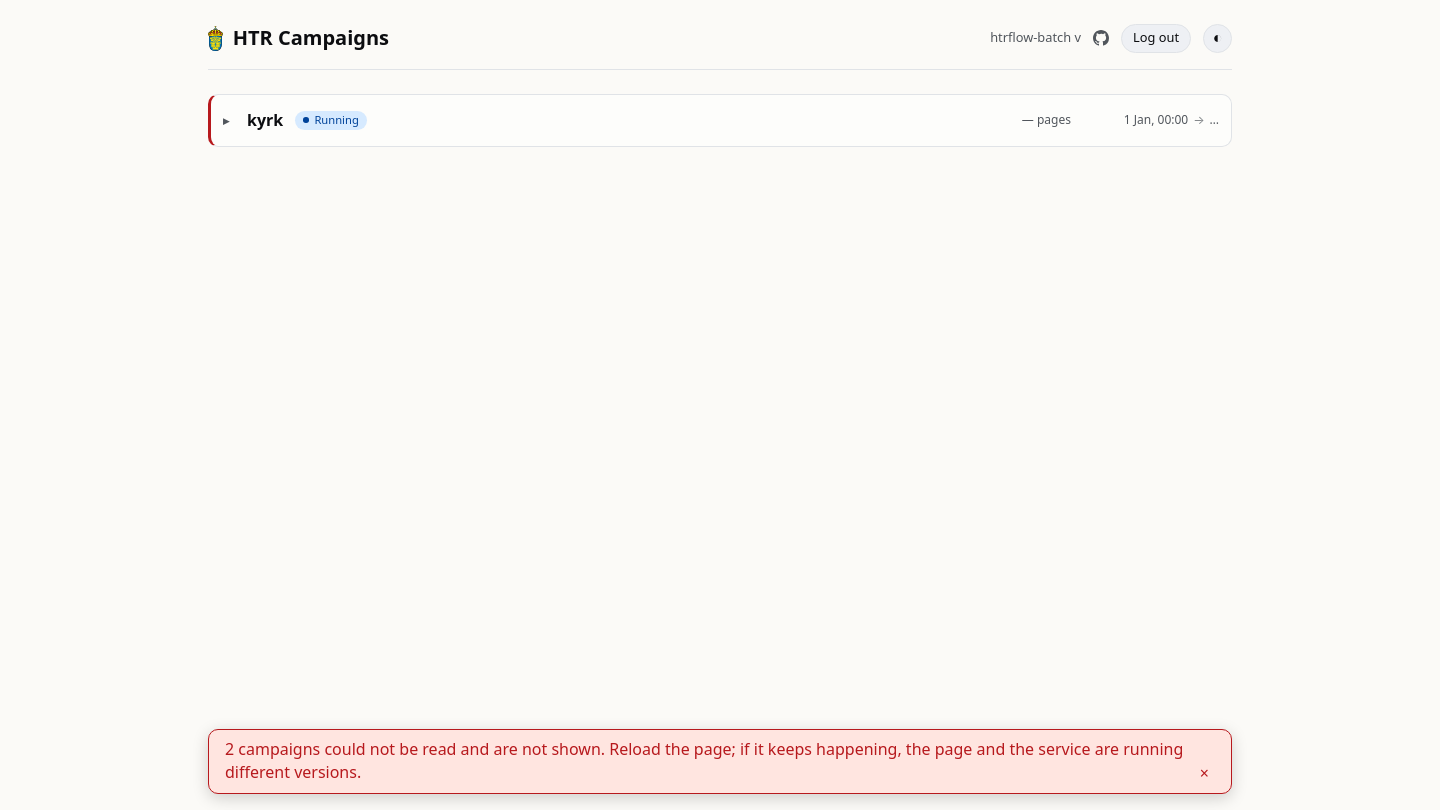
Test: / nothing moves as the page loads › the unreadable-rows banner can be put away until the count changes
Click the button named "put away": (1204, 773) [1194,761,1215,785]
Wait 120000 ms
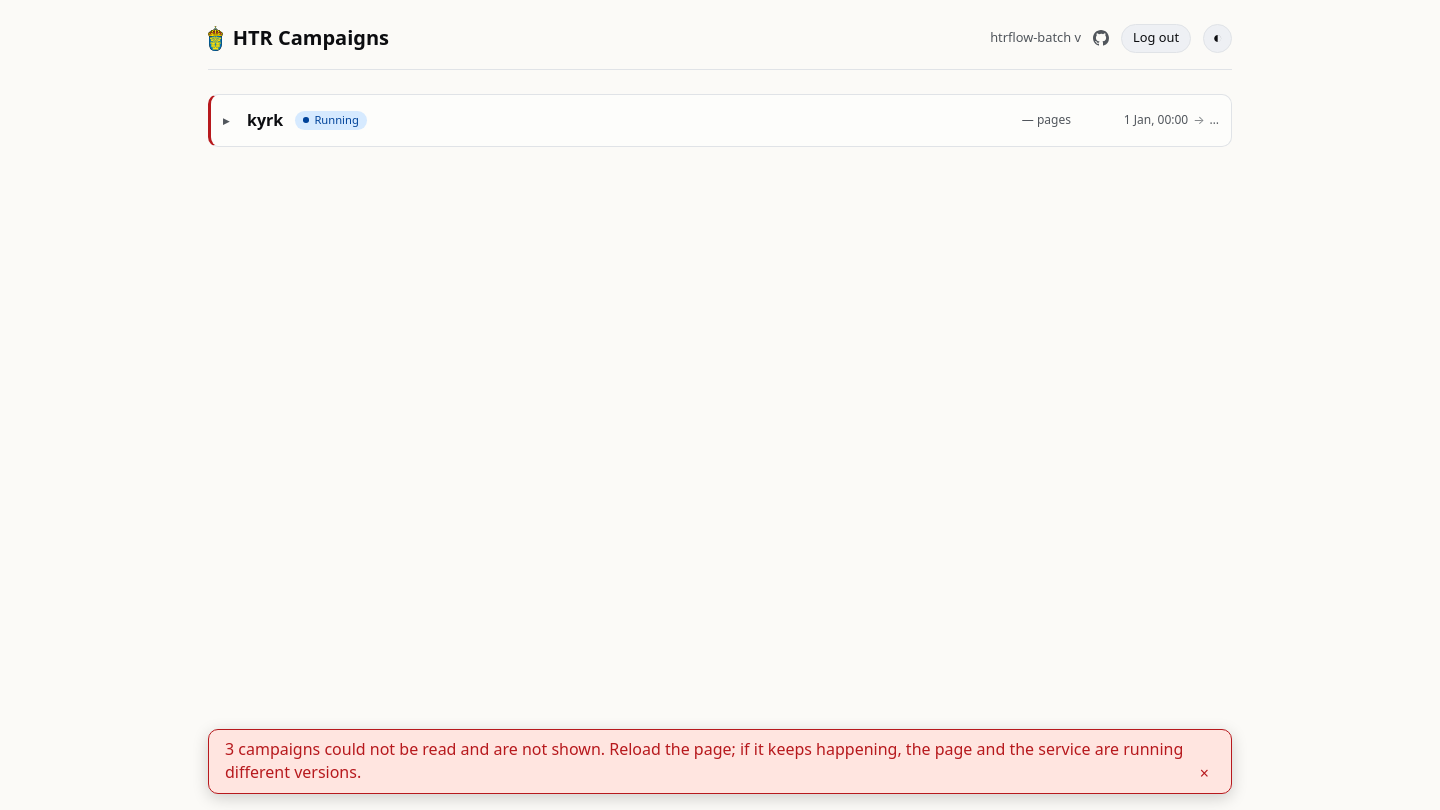
Check: the message shows "3 campaigns", box [225,738,1183,783]
